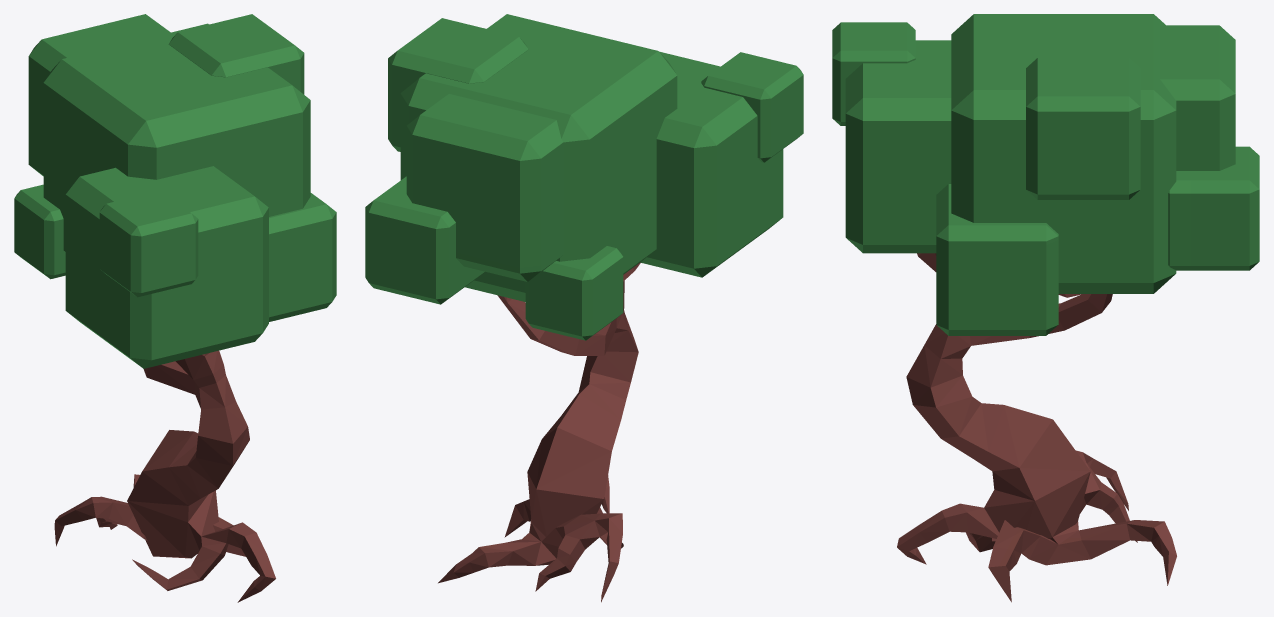
Rendered from TreePackage.fbx_Tree_015.fbx.
The picture shows the model from 3 angles, left to right: view 1: azimuth 30°, elevation 25°; view 2: azimuth 150°, elevation 25°; view 3: azimuth 270°, elevation 25°; orthographic projection. The views are drawn at different scales.
Parts seen in each view (by area): view 1: Cube.014, Plane.013; view 2: Cube.014, Plane.013; view 3: Cube.014, Plane.013.
Boxes of the visible parts, x1=… form: Cube.014: x1=14, y1=14, x2=336, y2=368; Plane.013: x1=54, y1=350, x2=275, y2=602; Cube.014: x1=365, y1=14, x2=803, y2=340; Plane.013: x1=438, y1=262, x2=640, y2=602; Cube.014: x1=832, y1=14, x2=1259, y2=335; Plane.013: x1=897, y1=253, x2=1176, y2=602.
Bounding box in the file's own units: 473 × 847 × 617.
